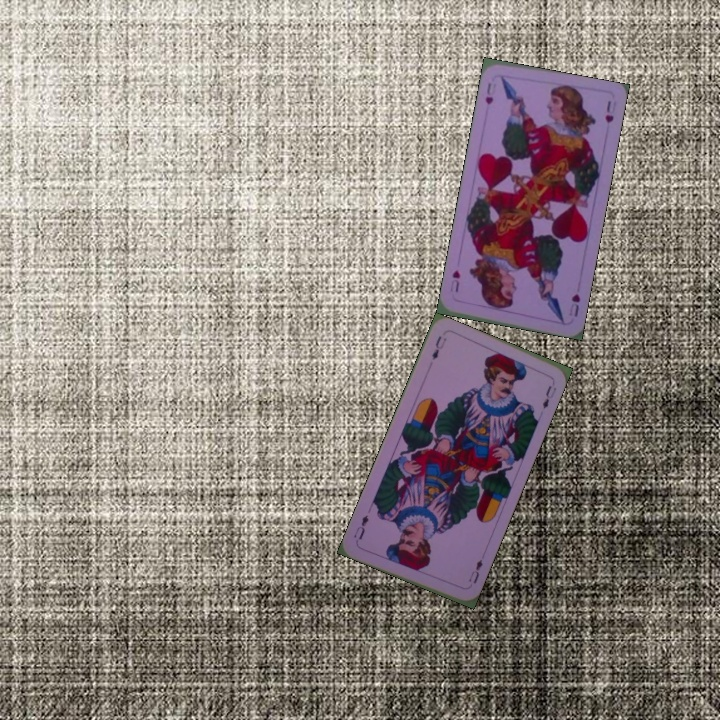EU: (464, 555, 485, 586), (428, 331, 449, 362)
HU: (565, 290, 583, 319), (481, 79, 496, 107)
